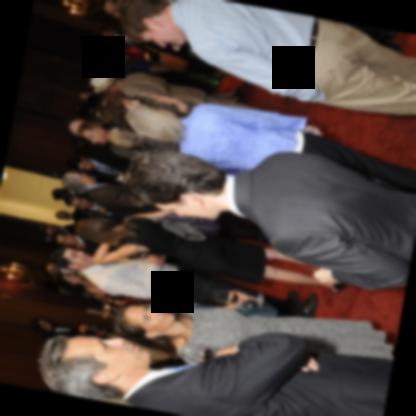handbag: (156, 213, 206, 242), (144, 44, 189, 72), (233, 298, 278, 316)
